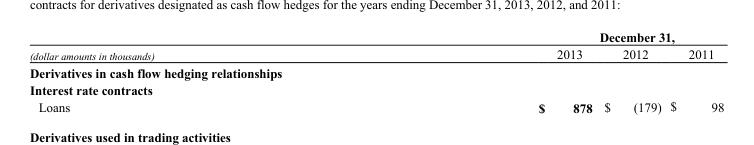table: (28, 29, 723, 114)
table column: (28, 29, 345, 114), (345, 29, 597, 114), (597, 29, 665, 114), (665, 29, 723, 114)
table column header: (28, 29, 723, 63)
table projected row header: (28, 63, 723, 80), (28, 80, 723, 97)
table row: (28, 45, 723, 63), (28, 63, 723, 80), (28, 80, 723, 97), (28, 97, 723, 114), (28, 29, 723, 45)
table spanning cell: (28, 29, 345, 63), (345, 29, 723, 45)
